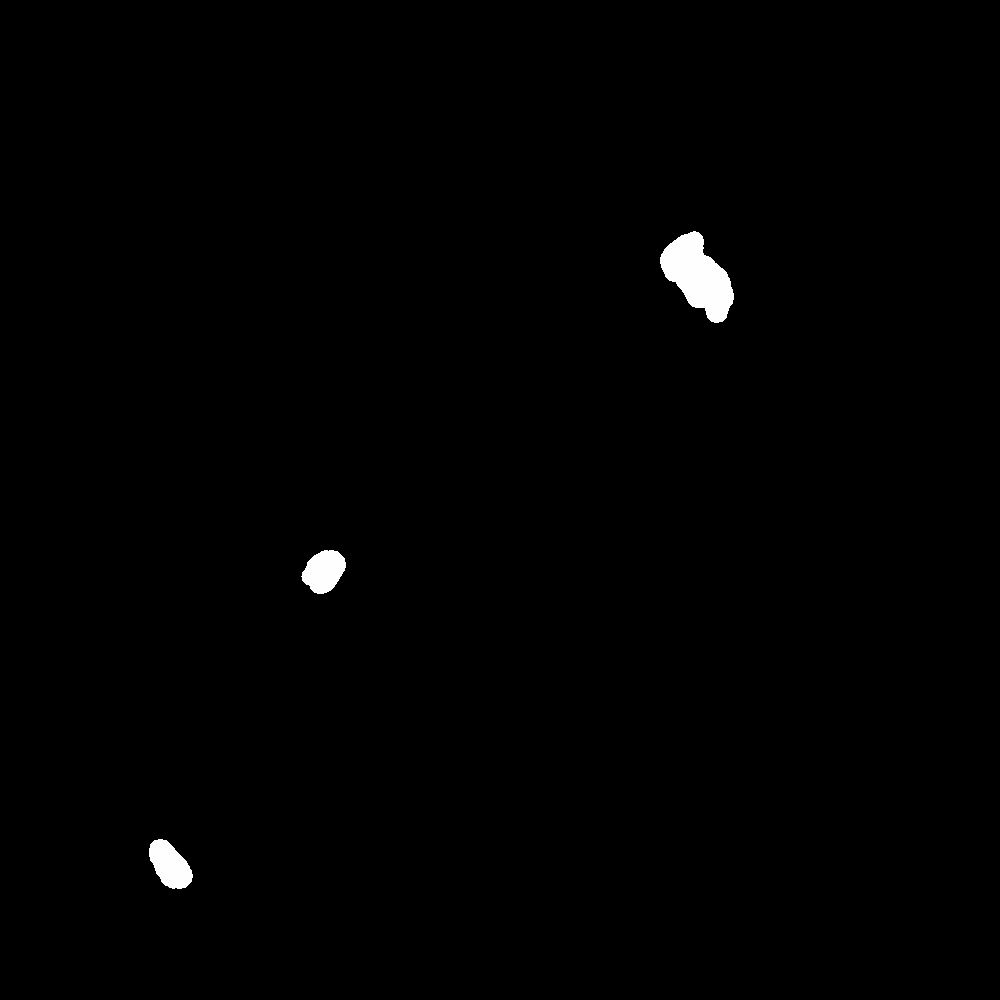illegal: (134, 834, 194, 885)
